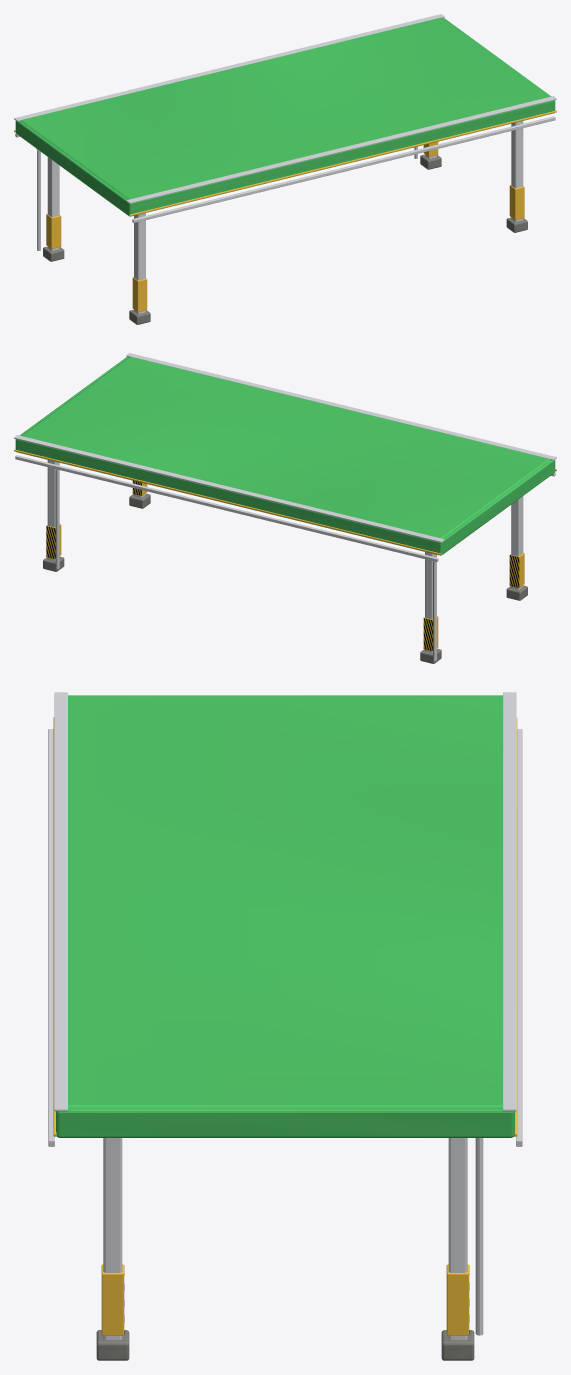
File: SW_VacCanopy_lod.glb
The picture shows the model from 3 angles, top to bottom: view 1: azimuth 30°, elevation 25°; view 2: azimuth 150°, elevation 25°; view 3: azimuth 270°, elevation 25°; orthographic projection. The views are drawn at different scales.
Visible parts, largest first — view 1: Structure; view 2: Structure; view 3: Structure.
Part boxes in pixels (bbox=[...]): Structure: bbox=[14, 14, 556, 324]; Structure: bbox=[14, 353, 556, 663]; Structure: bbox=[48, 692, 522, 1360].
Size of the model in its own units: 11.44 by 3.46 by 5.5.
2 materials, 1 textured.
